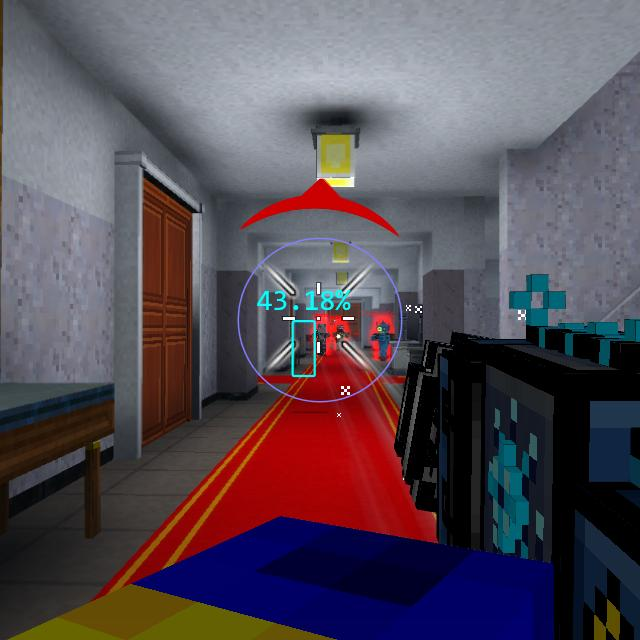Enemy: (371, 322, 396, 362), (312, 323, 332, 357), (333, 324, 350, 350)
